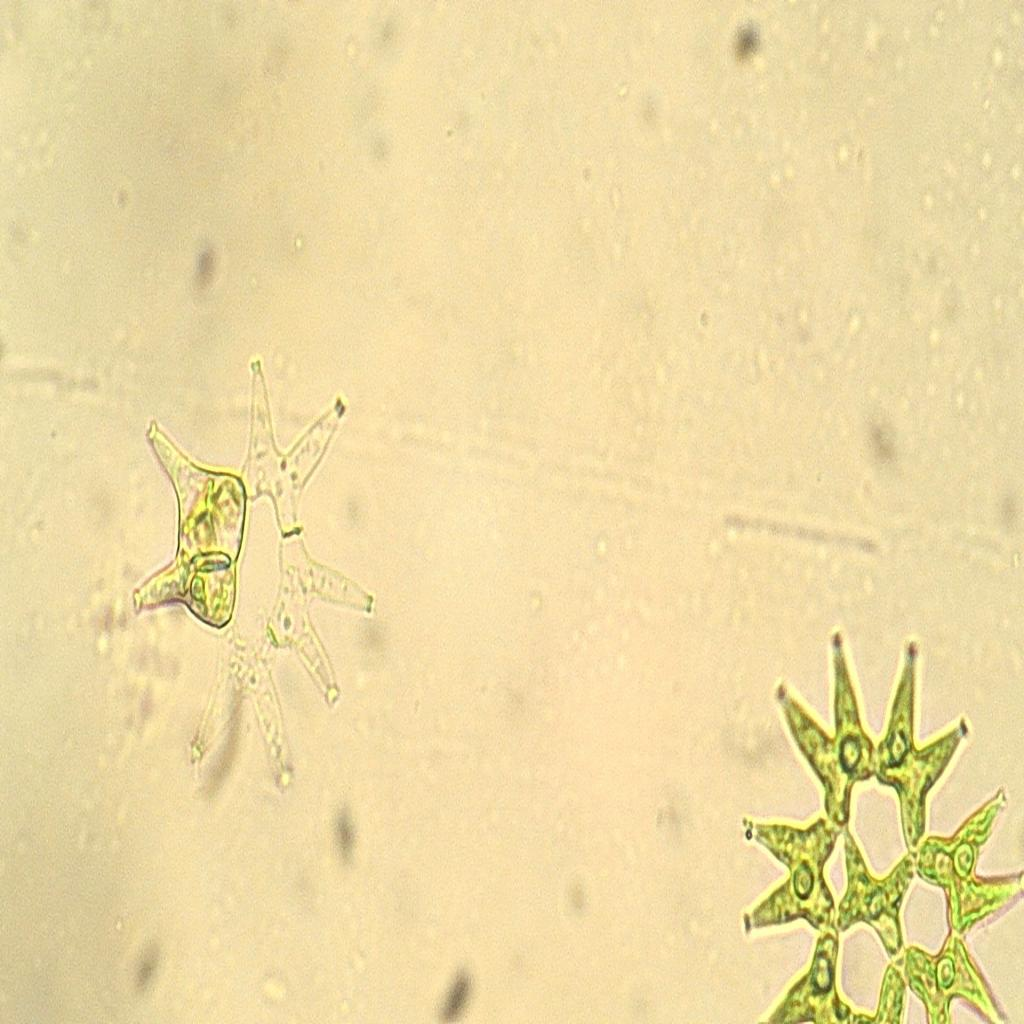Pediastrum_75TH: (109, 308, 395, 826)
